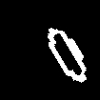chain: (48, 28, 85, 81)
